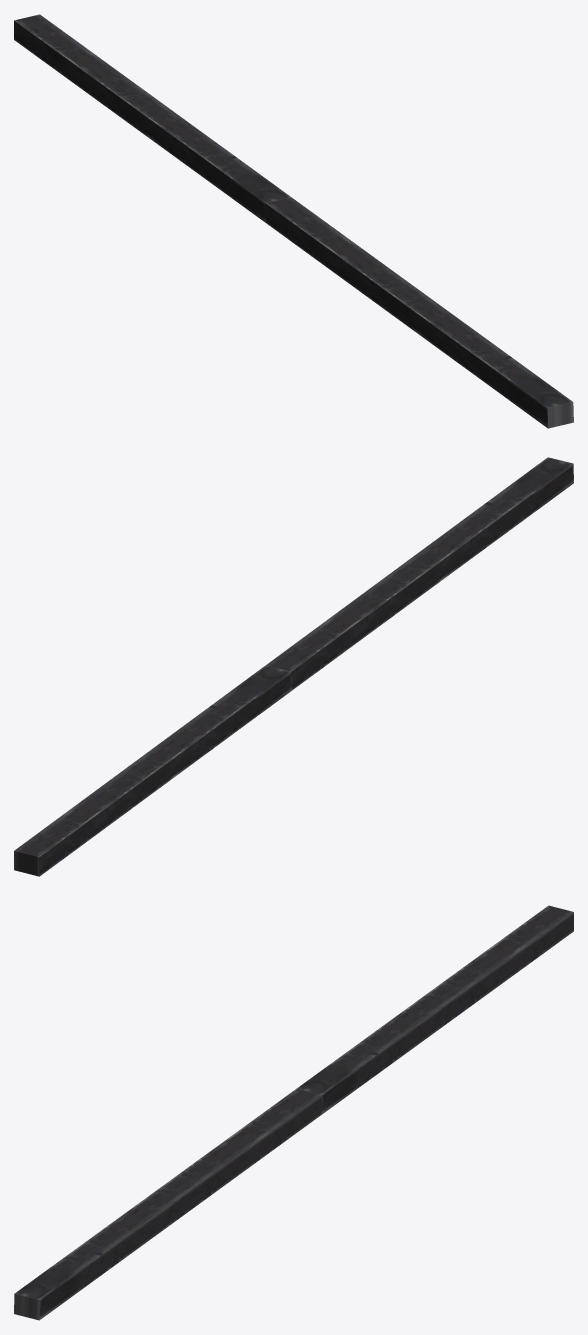
Rendered from 10504_IronRail15.FBX.
The picture shows the model from 3 angles, top to bottom: view 1: azimuth 30°, elevation 25°; view 2: azimuth 150°, elevation 25°; view 3: azimuth 330°, elevation 25°; orthographic projection.
Visible parts, largest first — view 1: 10504_IronRail15; view 2: 10504_IronRail15; view 3: 10504_IronRail15.
Boxes of the visible parts, x1,y1,x2,y2 form: 10504_IronRail15: [14, 14, 573, 428]; 10504_IronRail15: [14, 457, 573, 876]; 10504_IronRail15: [14, 905, 573, 1320].
Size of the model in its own units: 52.85 by 43.71 by 1904.
